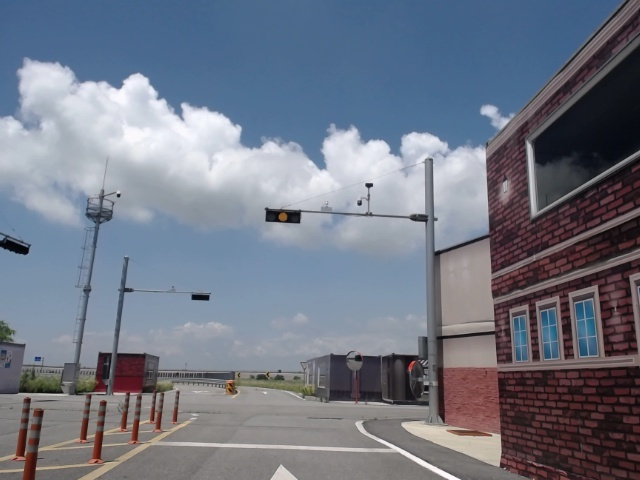orange_3: (265, 210, 301, 222)
